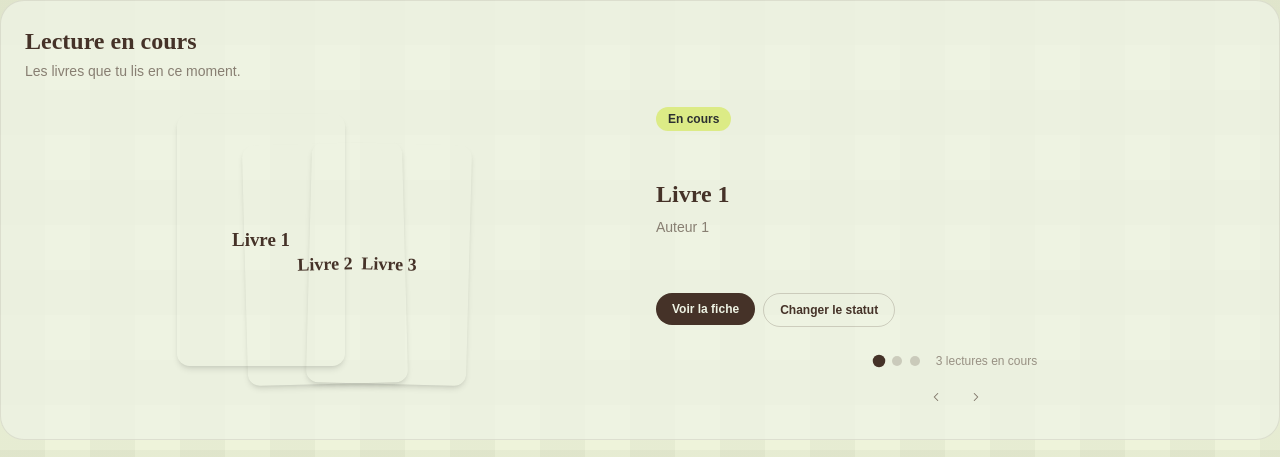
CurrentlyReading › navigates to the next book and wraps from the last to the first
Click the button named "Lecture suivante". click: (976, 397)
box: top-left (958, 379), bottom-right (994, 415)
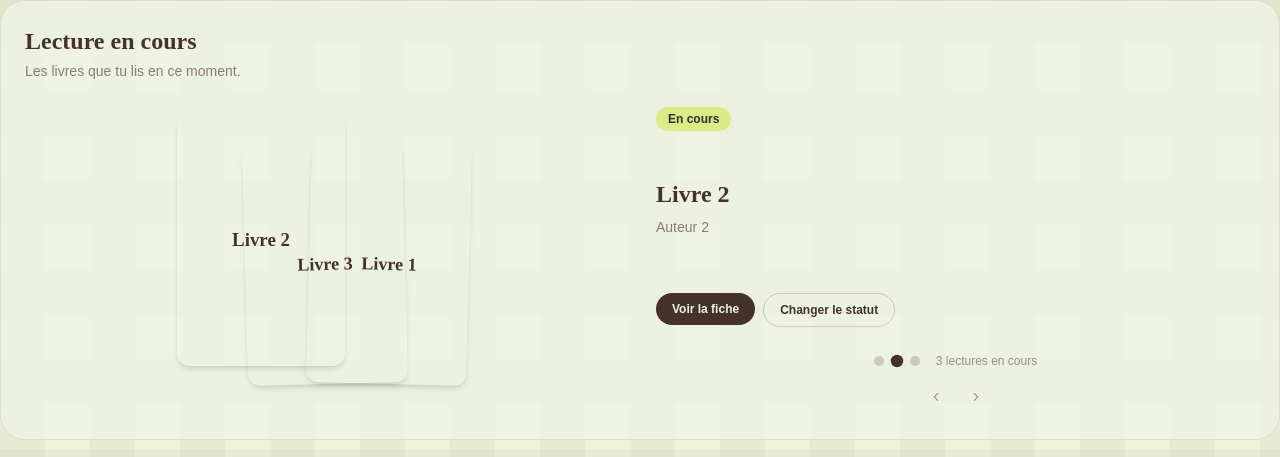
Result: the heading "Livre 2" is shown at top-left (656, 181), bottom-right (730, 207)
Click the button named "Lecture suivante". click: (976, 397)
box: top-left (958, 379), bottom-right (994, 415)
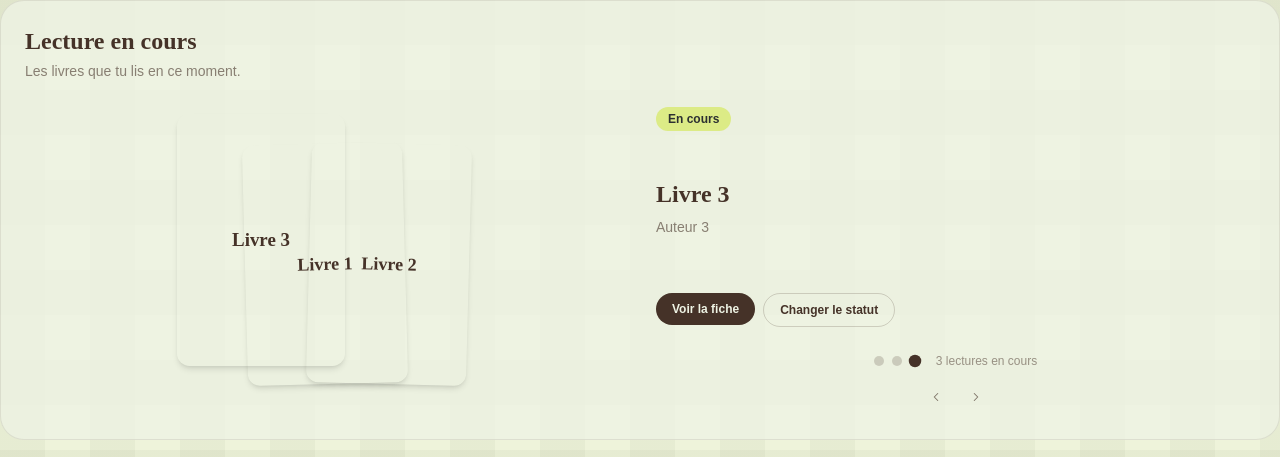
Click the button named "Lecture suivante". click: (976, 397)
box: top-left (958, 379), bottom-right (994, 415)
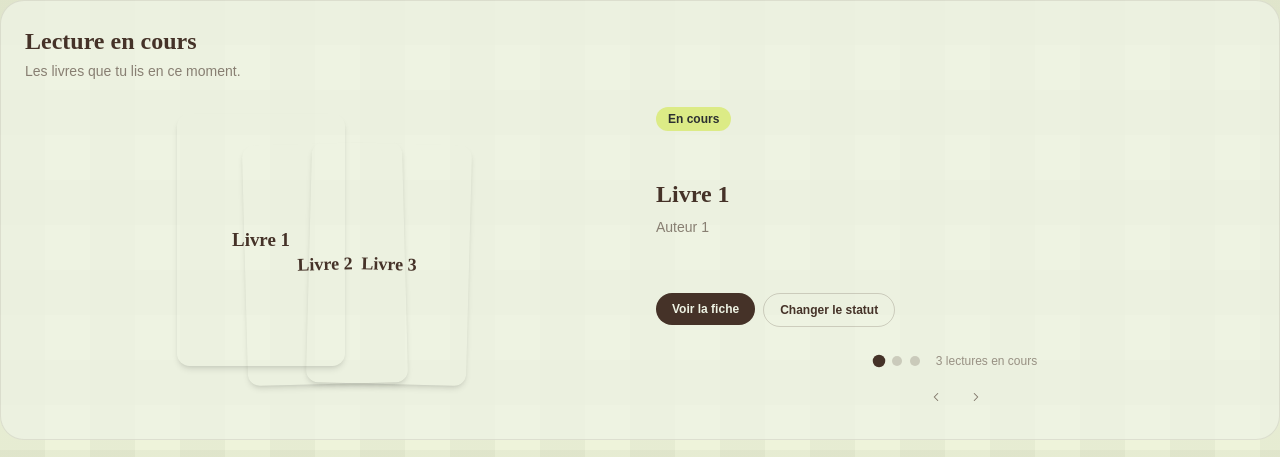
Result: the heading "Livre 1" is shown at top-left (656, 181), bottom-right (730, 207)
